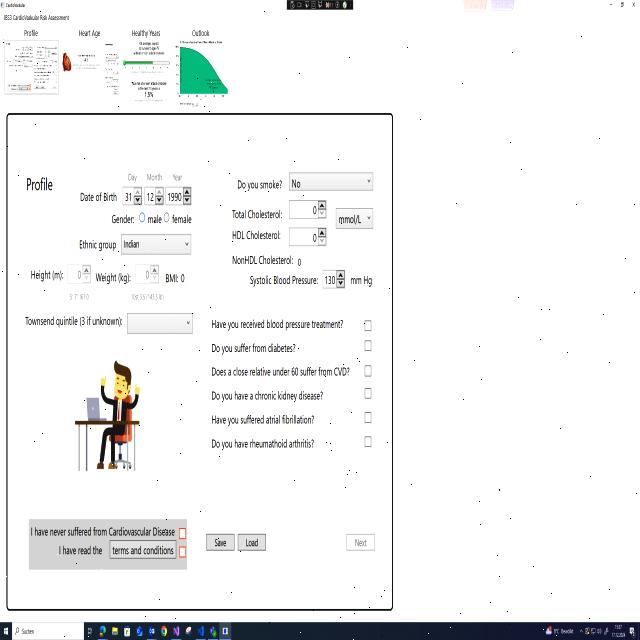button: (109, 539, 178, 567), (237, 531, 274, 554), (344, 528, 377, 553), (204, 531, 235, 555), (615, 0, 629, 18), (603, 0, 615, 18), (629, 0, 639, 18)
checkbox: (362, 359, 374, 381), (178, 523, 190, 540), (179, 544, 189, 564), (363, 317, 372, 337), (364, 432, 373, 450), (363, 409, 373, 425), (364, 386, 372, 401), (363, 339, 372, 352)
dropdownMenu: (288, 168, 374, 192), (120, 231, 195, 257), (126, 310, 194, 336), (331, 204, 375, 234), (554, 627, 583, 635)
icon: (99, 624, 106, 637), (209, 626, 217, 637), (629, 627, 636, 639), (173, 625, 180, 636), (161, 625, 167, 637), (198, 625, 204, 637), (124, 626, 130, 637), (148, 625, 154, 636), (112, 626, 118, 636), (137, 626, 143, 636), (186, 626, 192, 636), (546, 626, 552, 636), (584, 627, 590, 635), (604, 627, 609, 636), (4, 626, 8, 636), (88, 626, 92, 636), (597, 627, 602, 635), (591, 628, 596, 634)
input: (12, 623, 84, 640)
label: (29, 516, 177, 537), (208, 362, 353, 383), (209, 312, 344, 334), (208, 387, 327, 407), (210, 435, 318, 455), (22, 310, 124, 331), (208, 412, 320, 429), (209, 338, 299, 358), (227, 250, 306, 271), (24, 256, 64, 286), (245, 274, 319, 290), (19, 169, 58, 199), (233, 175, 284, 197), (51, 541, 104, 562), (230, 204, 286, 223), (227, 226, 285, 244), (76, 187, 120, 206), (1, 11, 70, 23), (75, 234, 118, 253), (94, 269, 131, 288), (348, 272, 376, 294), (128, 22, 164, 38), (165, 266, 191, 287), (129, 290, 167, 304), (108, 210, 136, 227), (188, 22, 215, 38), (145, 165, 164, 183), (169, 163, 186, 182), (172, 211, 193, 226), (65, 291, 91, 303), (123, 165, 139, 183), (76, 28, 103, 38), (22, 27, 39, 38), (148, 216, 162, 225)
menu: (0, 621, 640, 640)
radio: (138, 211, 146, 224), (163, 212, 170, 224)
tabControl: (220, 622, 232, 640)
upDown: (288, 196, 327, 223), (288, 224, 327, 248), (66, 260, 92, 286), (165, 185, 194, 208), (134, 263, 160, 286), (322, 266, 345, 292), (122, 184, 143, 206), (144, 185, 164, 206)
